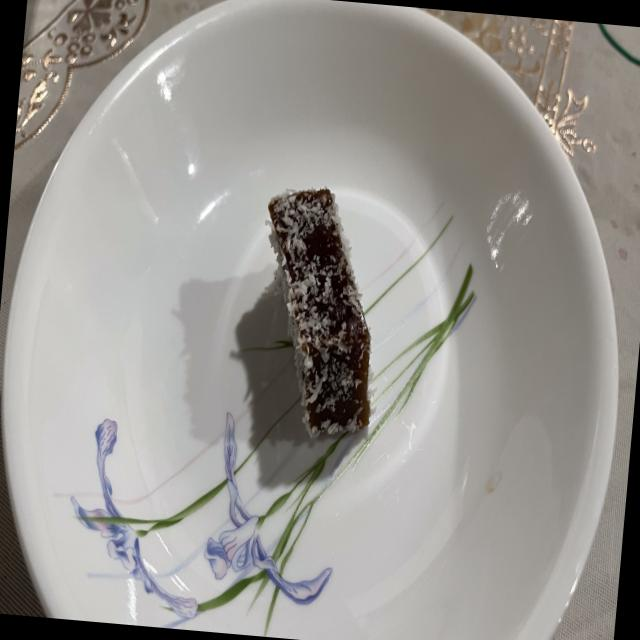kaswi: (268, 188, 370, 436)
